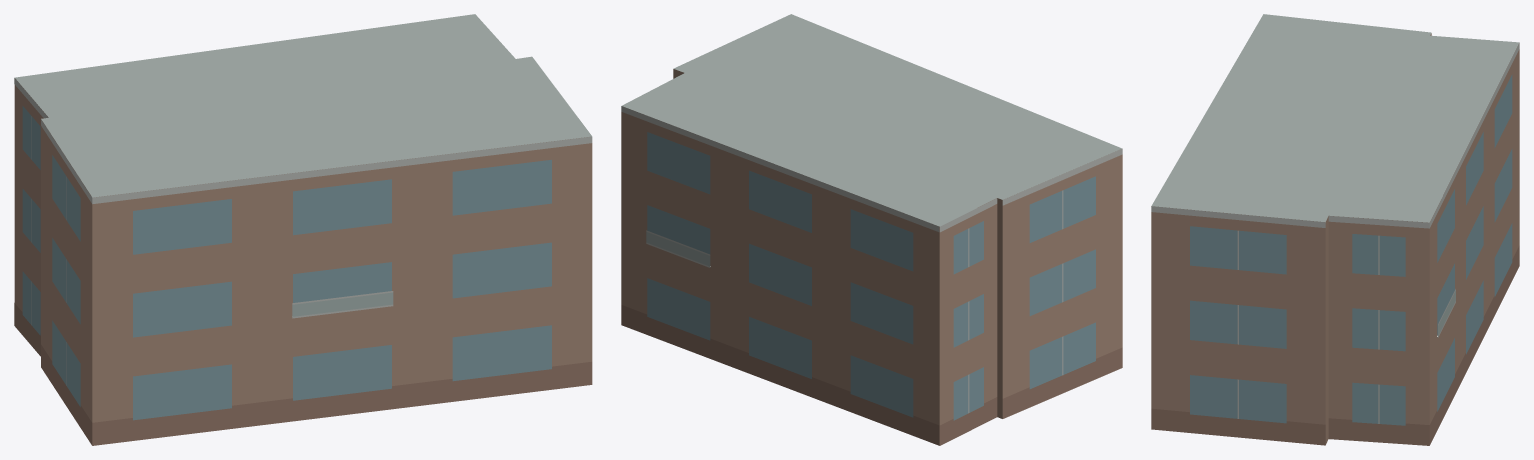
Rendered from survey-upis-32752644.glb.
3 views of the same model, side by side, from view 1: azimuth 30°, elevation 25°; view 2: azimuth 150°, elevation 25°; view 3: azimuth 270°, elevation 25° (orthographic). The views are drawn at different scales.
Visible parts, largest first — view 1: survey-upis-32752644.tmp; view 2: survey-upis-32752644.tmp; view 3: survey-upis-32752644.tmp.
Part boxes in pixels (x1,y1,x2,y2): survey-upis-32752644.tmp: [14, 14, 592, 445]; survey-upis-32752644.tmp: [621, 14, 1122, 445]; survey-upis-32752644.tmp: [1151, 14, 1519, 445].
Size of the model in its own units: 18.34 by 9.15 by 13.69.
